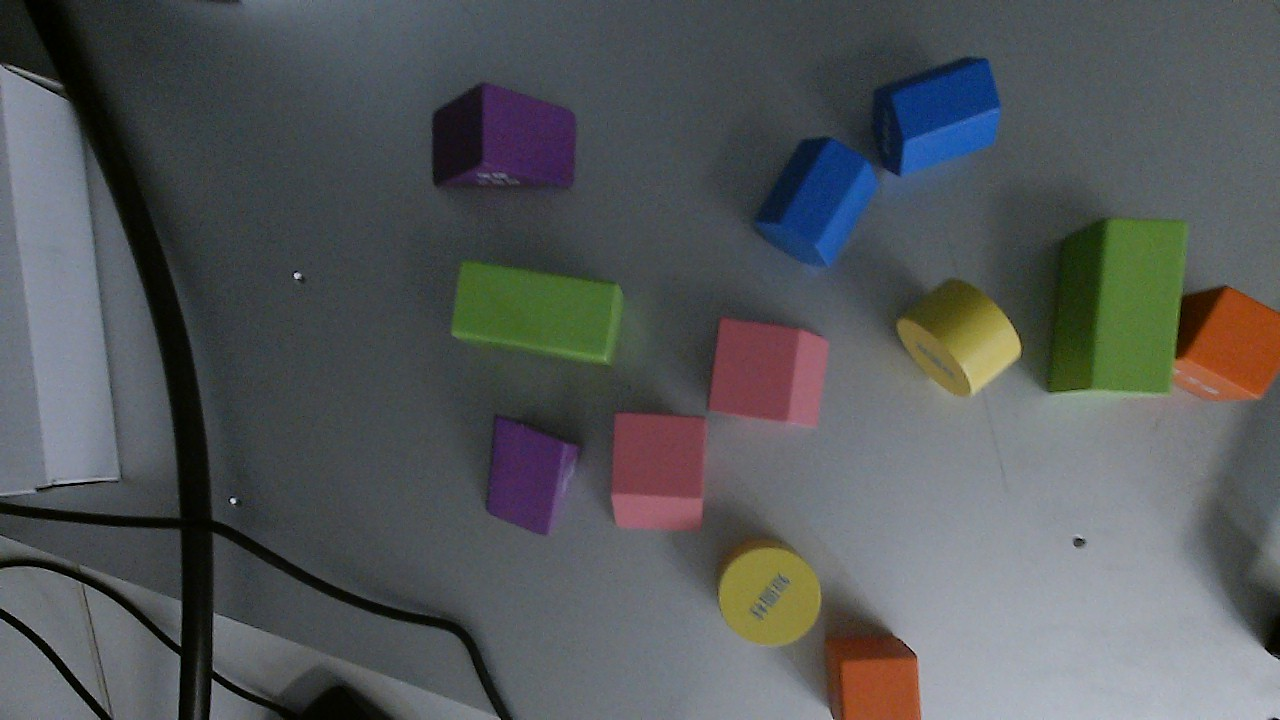circle: (894, 279, 1021, 396), (714, 534, 822, 652)
diamond: (697, 318, 827, 430), (607, 407, 712, 528)
hexagon: (753, 137, 881, 268), (869, 55, 1004, 172)
rectangle: (1047, 214, 1189, 404), (445, 258, 622, 362)
square: (1170, 283, 1280, 409), (821, 633, 925, 717)
triangle: (428, 82, 581, 194), (483, 404, 573, 539)
